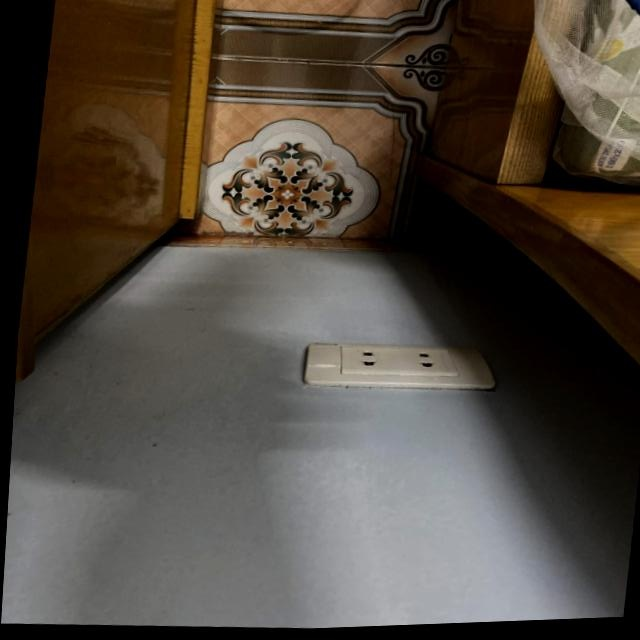outlet: (301, 335, 501, 398)
